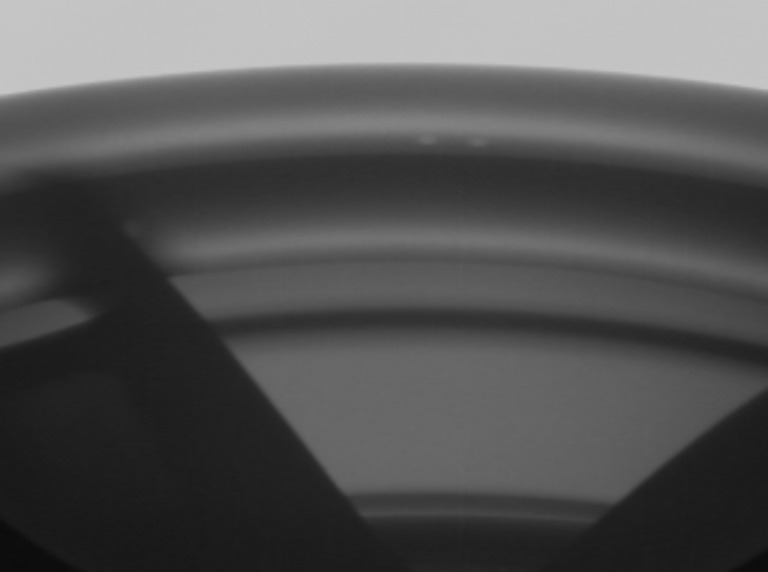defect: (453, 121, 498, 159)
